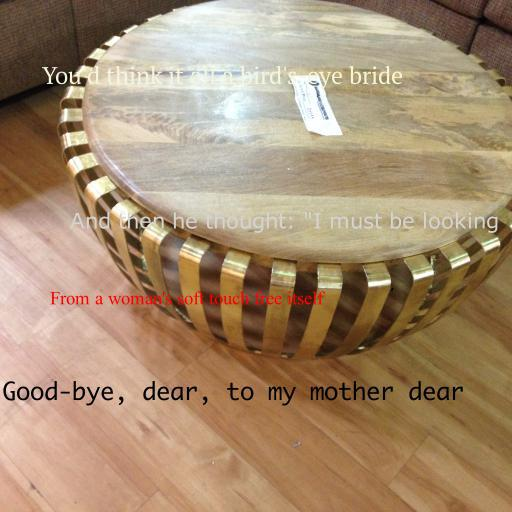Monaco: (2, 381, 464, 406)
PT Serif: (41, 65, 403, 90)
Times New Roman: (49, 291, 323, 305)
Verdana: (69, 212, 499, 233)
